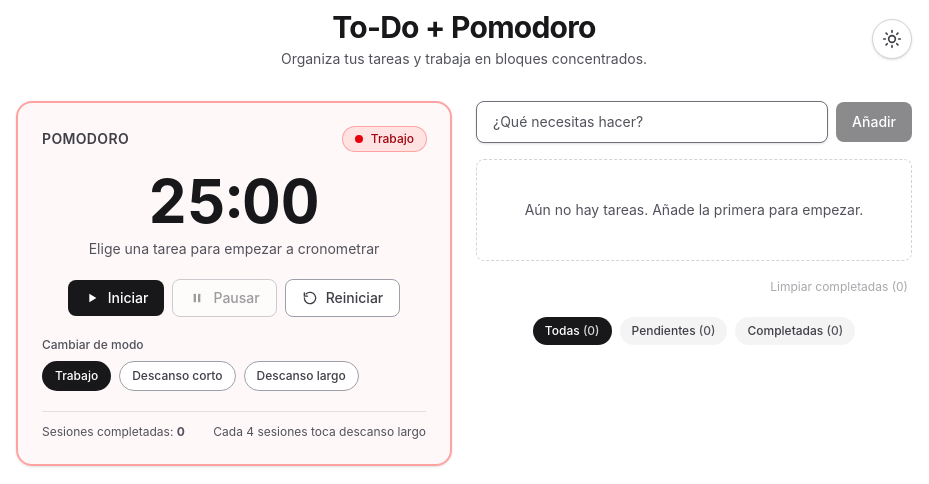
it: integración App: ToDo + Pomodoro › volver a pulsar el botón de la tarea activa desenlaza el Pomodoro
Type "Llamar al dentista" into the field named "Nueva tarea" at (652, 122), box x1=476 y1=101 x2=828 y2=143
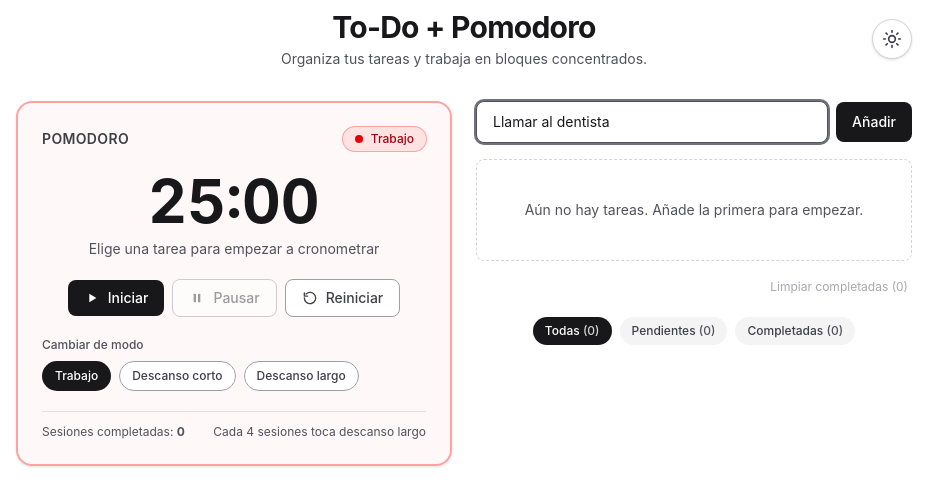
Click the button "Añadir" at (874, 122), box x1=836 y1=102 x2=912 y2=142
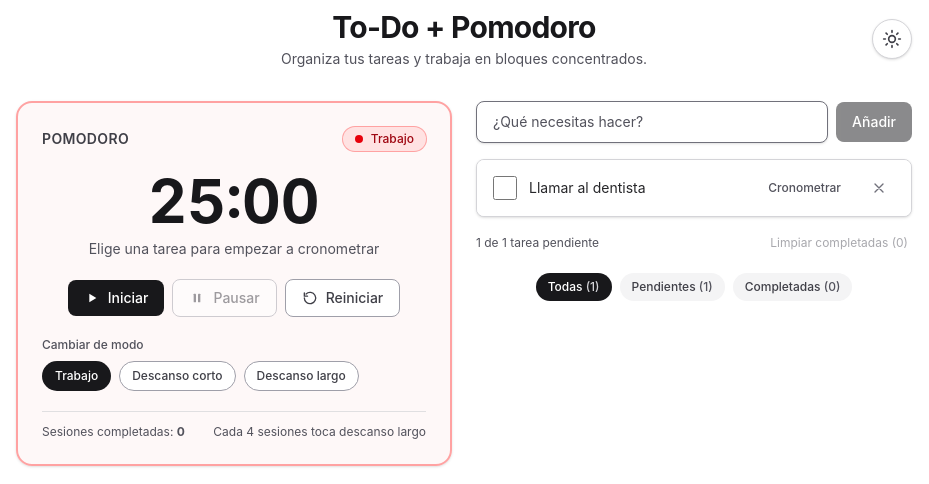
Click the button "Cronometrar" at (805, 188), box x1=758 y1=174 x2=851 y2=202
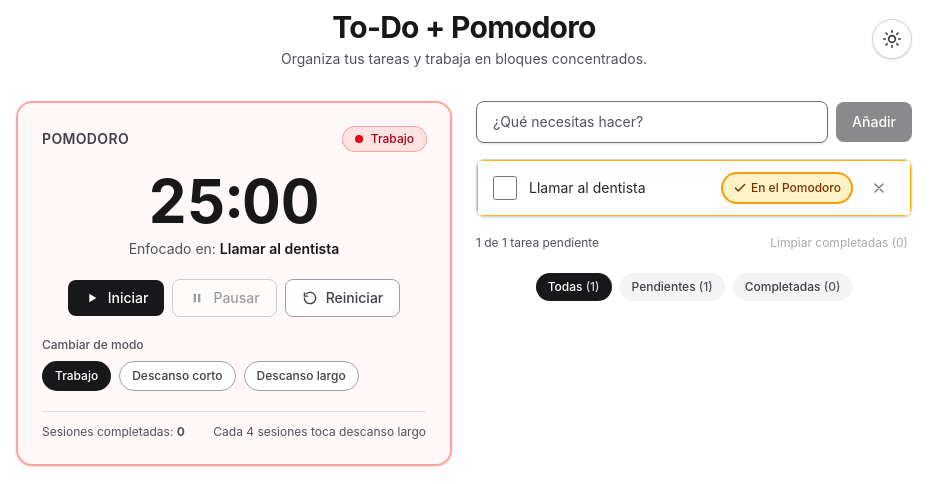
expect the text "Llamar al dentista" is shown: met, box x1=220 y1=240 x2=339 y2=257
Click the button "En el Pomodoro" at (787, 188), box x1=723 y1=174 x2=851 y2=202
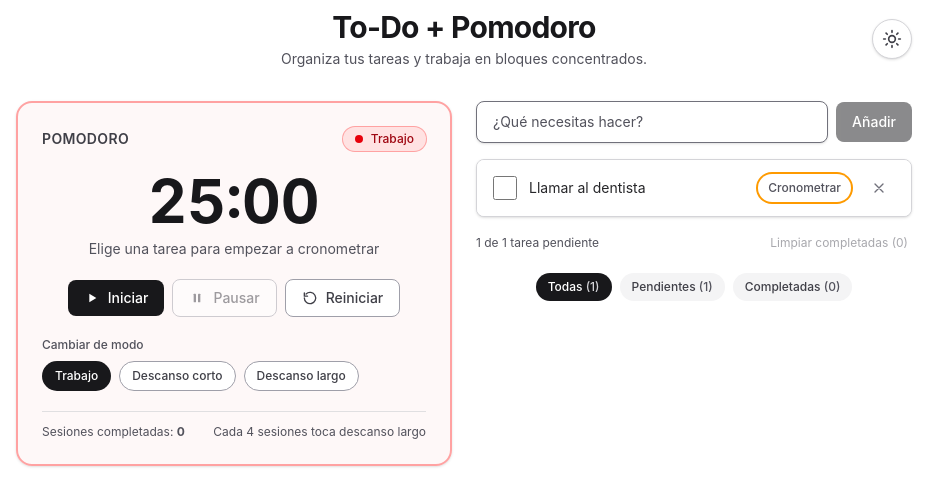
expect the text "Elige una tarea para empezar a cronometrar" is shown: met, box x1=89 y1=240 x2=379 y2=257
